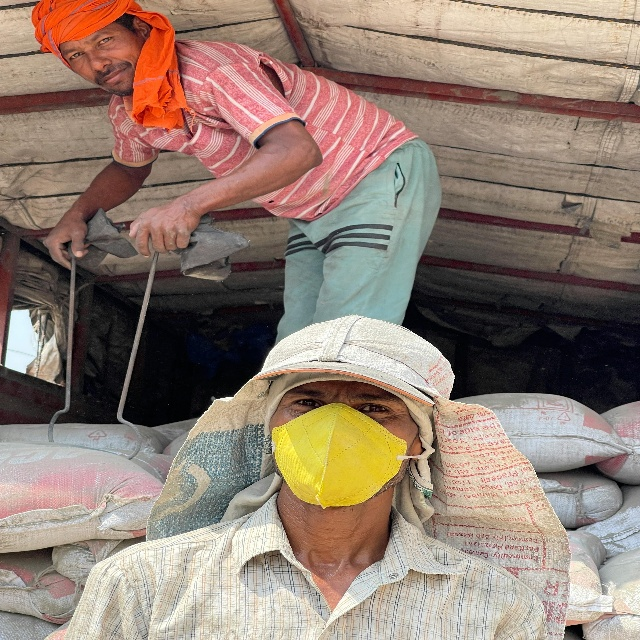Mascara: (272, 403, 406, 510)
Sin_guantes: (128, 203, 199, 252), (43, 212, 88, 265)
